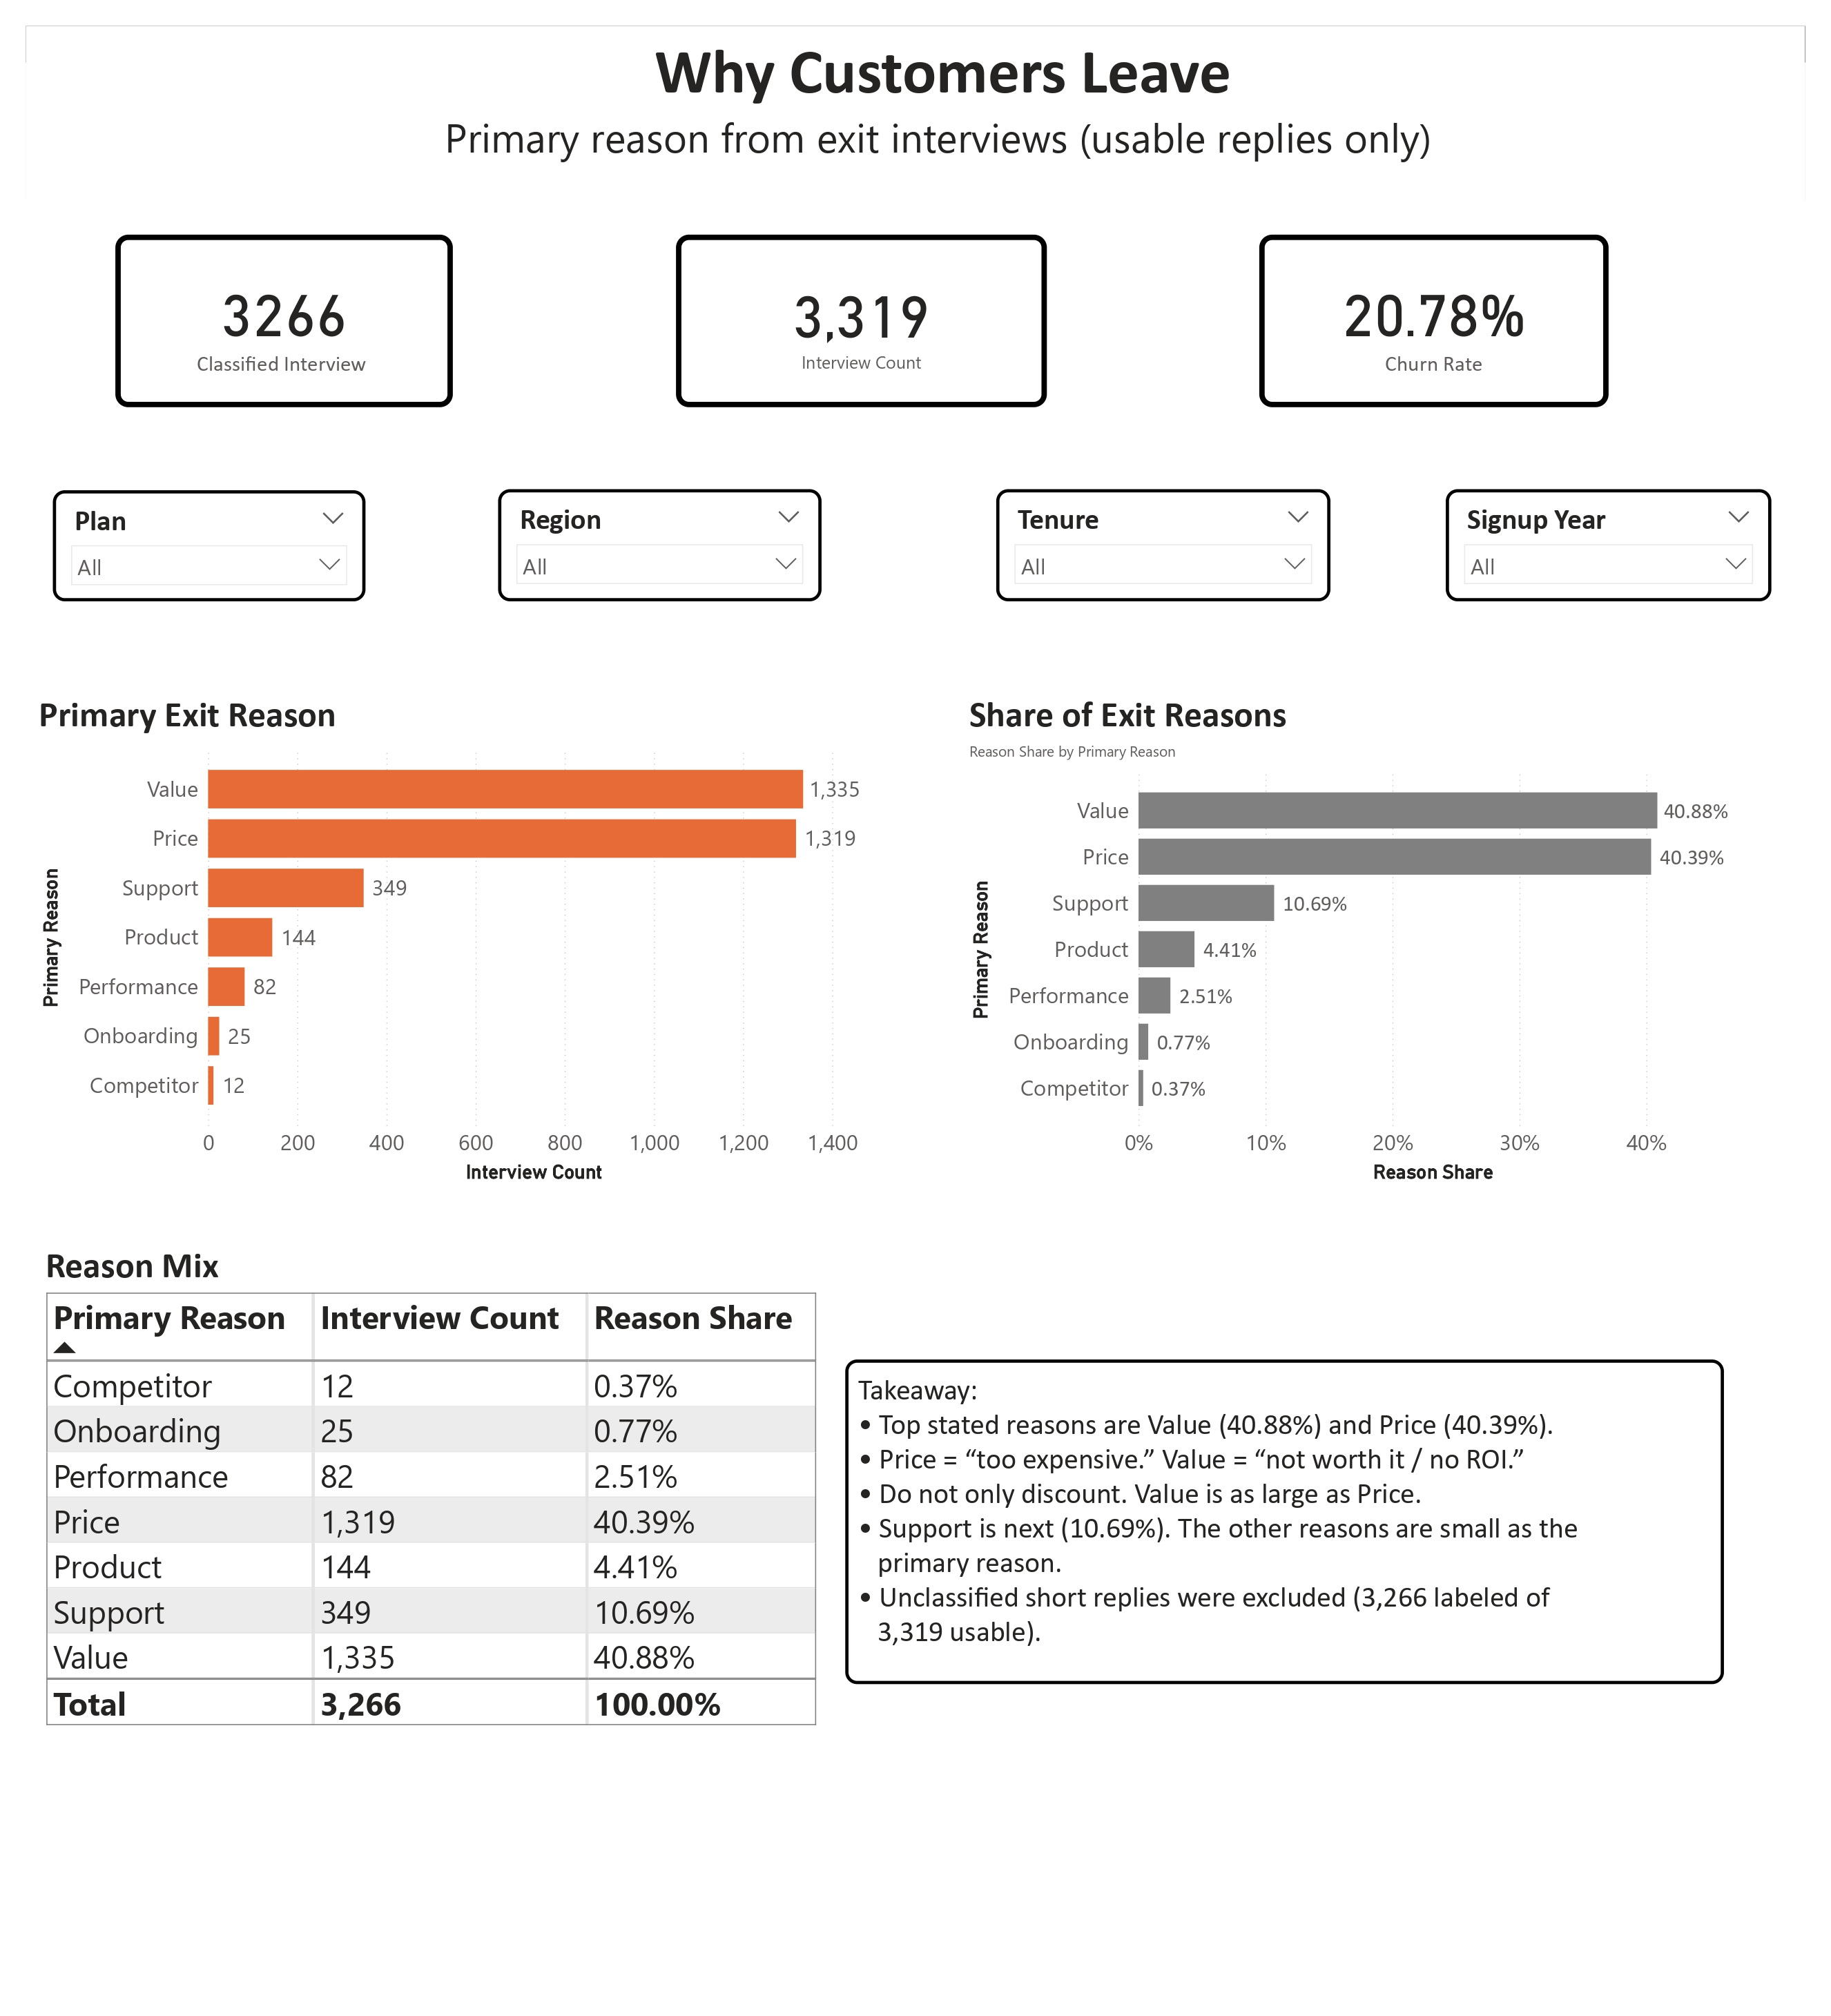

Layout of this report page (visuals, bound fields, positions):
{"tool":"powerbi","page":{"name":"Page 3","canvas":[1650,1820],"ordinal":2},"visuals":[{"type":"card","fields":{"Values":["interviews_classified.Classified Interview Count"]},"box":[83.3,193.1,312.5,159.7],"z":0},{"type":"card","fields":{"Values":["customers.Churn Rate"]},"box":[1144.4,193.1,323.6,159.7],"z":1000},{"type":"textbox","box":[362.5,0,975,163.9],"z":2000},{"type":"slicer","fields":{"Values":["customers.Subscription_Type"]},"box":[25,430,290,103.3],"z":3000},{"type":"slicer","title":"Region","fields":{"Values":["customers.Region"]},"box":[437.5,429.2,300,104.2],"z":4000},{"type":"slicer","fields":{"Values":["customers.Tenure_Group"]},"box":[900,429.2,309.7,104.2],"z":5000},{"type":"slicer","fields":{"Values":["customers.Signup_Year"]},"box":[1316.7,429.2,302.8,104.2],"z":6000},{"type":"barChart","title":"Primary Exit Reason","fields":{"Category":["interviews_classified.primary_reason"],"Y":["interviews_classified.Interview Count"]},"box":[6.7,616.7,796.7,460],"z":7000},{"type":"tableEx","title":"Reason Mix","fields":{"Values":["interviews_classified.primary_reason","interviews_classified.Interview Count","interviews_classified.Reason Share"]},"box":[12.5,1127.8,725,466.7],"z":8000},{"type":"textbox","box":[759.7,1235.8,814.9,301.5],"z":9000},{"type":"card","fields":{"Values":["interviews_classified.Interview Count"]},"box":[602.8,193.1,344.4,159.7],"z":10000},{"type":"clusteredBarChart","title":"Share of Exit Reasons","fields":{"Category":["interviews_classified.primary_reason"],"Y":["interviews_classified.Reason Share"]},"box":[870,616.7,733.3,460],"z":11000}]}

Visuals, with their boxes in screenshot pixels (x1, y1, x2, y2), scaled from the page's 1650x1820 canvas onto the 1831x2016 screenshot:
card - interviews_classified.Classified Interview Count: select_region(93, 214, 439, 391)
card - customers.Churn Rate: select_region(1270, 214, 1629, 391)
textbox: select_region(403, 0, 1484, 182)
slicer - customers.Subscription_Type: select_region(28, 476, 349, 591)
"Region" slicer: select_region(485, 476, 818, 591)
slicer - customers.Tenure_Group: select_region(999, 476, 1342, 591)
slicer - customers.Signup_Year: select_region(1461, 476, 1797, 591)
"Primary Exit Reason" barChart: select_region(8, 683, 891, 1192)
"Reason Mix" tableEx: select_region(14, 1249, 818, 1766)
textbox: select_region(843, 1369, 1747, 1703)
card - interviews_classified.Interview Count: select_region(669, 214, 1051, 391)
"Share of Exit Reasons" clusteredBarChart: select_region(965, 683, 1779, 1192)
